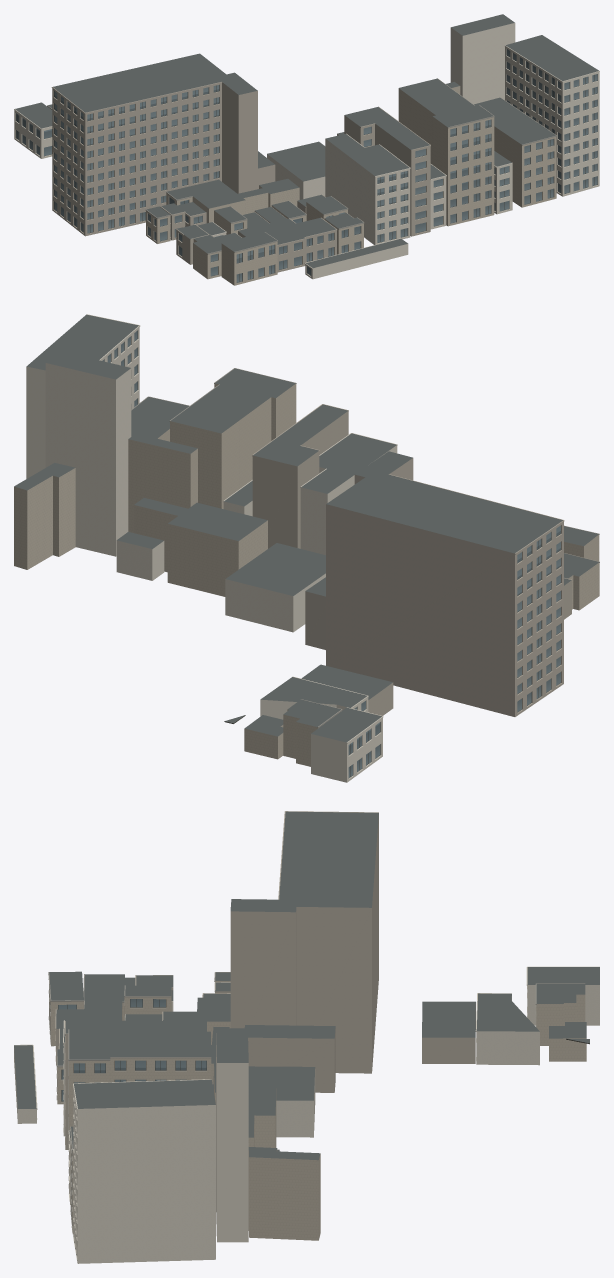
Rendered from near.gltf.
3 views of the same model, one above another, from view 1: azimuth 30°, elevation 25°; view 2: azimuth 150°, elevation 25°; view 3: azimuth 270°, elevation 25° (orthographic). The views are drawn at different scales.
Parts seen in each view (by area): view 1: cell-e007-n000_near_roof, cell-e007-n000_near_tile-wall, cell-e007-n000_near_plaster, cell-e007-n000_near_glass, cell-e007-n000_near_stone, cell-e007-n000_near_frame, cell-e007-n000_near_granite; view 2: cell-e007-n000_near_tile-wall, cell-e007-n000_near_roof, cell-e007-n000_near_plaster, cell-e007-n000_near_stone, cell-e007-n000_near_glass, cell-e007-n000_near_frame; view 3: cell-e007-n000_near_roof, cell-e007-n000_near_plaster, cell-e007-n000_near_tile-wall, cell-e007-n000_near_stone, cell-e007-n000_near_granite, cell-e007-n000_near_glass.
Part boxes in pixels (x1,y1,x2,y2): cell-e007-n000_near_roof: (15, 14, 598, 268); cell-e007-n000_near_tile-wall: (51, 82, 430, 272); cell-e007-n000_near_plaster: (14, 23, 599, 279); cell-e007-n000_near_glass: (16, 49, 597, 282); cell-e007-n000_near_stone: (51, 86, 556, 285); cell-e007-n000_near_frame: (16, 55, 597, 282); cell-e007-n000_near_granite: (47, 78, 556, 283); cell-e007-n000_near_tile-wall: (252, 404, 572, 716); cell-e007-n000_near_roof: (14, 314, 598, 742); cell-e007-n000_near_plaster: (26, 314, 397, 782); cell-e007-n000_near_stone: (14, 383, 599, 766); cell-e007-n000_near_glass: (102, 330, 560, 777); cell-e007-n000_near_frame: (110, 330, 560, 777); cell-e007-n000_near_roof: (14, 811, 599, 1160); cell-e007-n000_near_plaster: (14, 966, 599, 1263); cell-e007-n000_near_tile-wall: (55, 811, 475, 1149); cell-e007-n000_near_stone: (49, 981, 586, 1240); cell-e007-n000_near_granite: (48, 972, 585, 1230); cell-e007-n000_near_glass: (58, 999, 206, 1101).
Bounding box in the file's own units: 113 × 32.99 × 97.68.
Materials: 7 (5 with a texture image).
